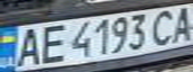1: (90, 16, 115, 56)
3: (127, 11, 154, 51)
4: (66, 18, 93, 58)
9: (109, 14, 133, 54)
A: (9, 25, 45, 68), (166, 3, 193, 43)
C: (148, 7, 181, 45)
E: (33, 21, 69, 64)
